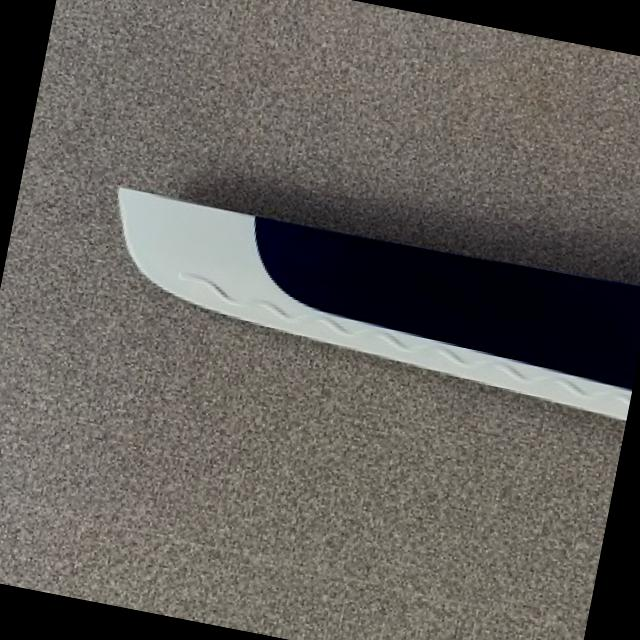healthy: (122, 188, 640, 419)
